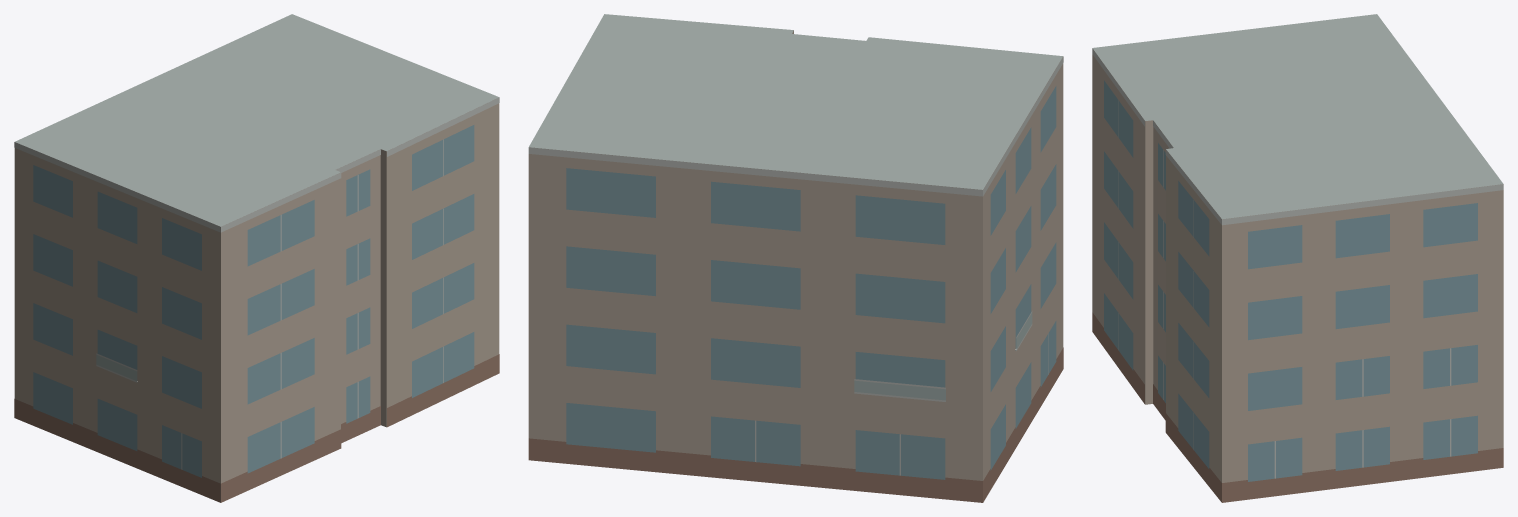
Rendered from survey-upis-32723261.glb.
3 views of the same model, side by side, from view 1: azimuth 30°, elevation 25°; view 2: azimuth 150°, elevation 25°; view 3: azimuth 270°, elevation 25° (orthographic). The views are drawn at different scales.
Visible parts, largest first — view 1: survey-upis-32723261.tmp; view 2: survey-upis-32723261.tmp; view 3: survey-upis-32723261.tmp.
Boxes of the visible parts, <box> form: survey-upis-32723261.tmp: <box>14,14,499,502</box>; survey-upis-32723261.tmp: <box>528,14,1063,502</box>; survey-upis-32723261.tmp: <box>1092,14,1503,502</box>.
Size of the model in its own units: 17.86 by 11.5 by 15.13.
